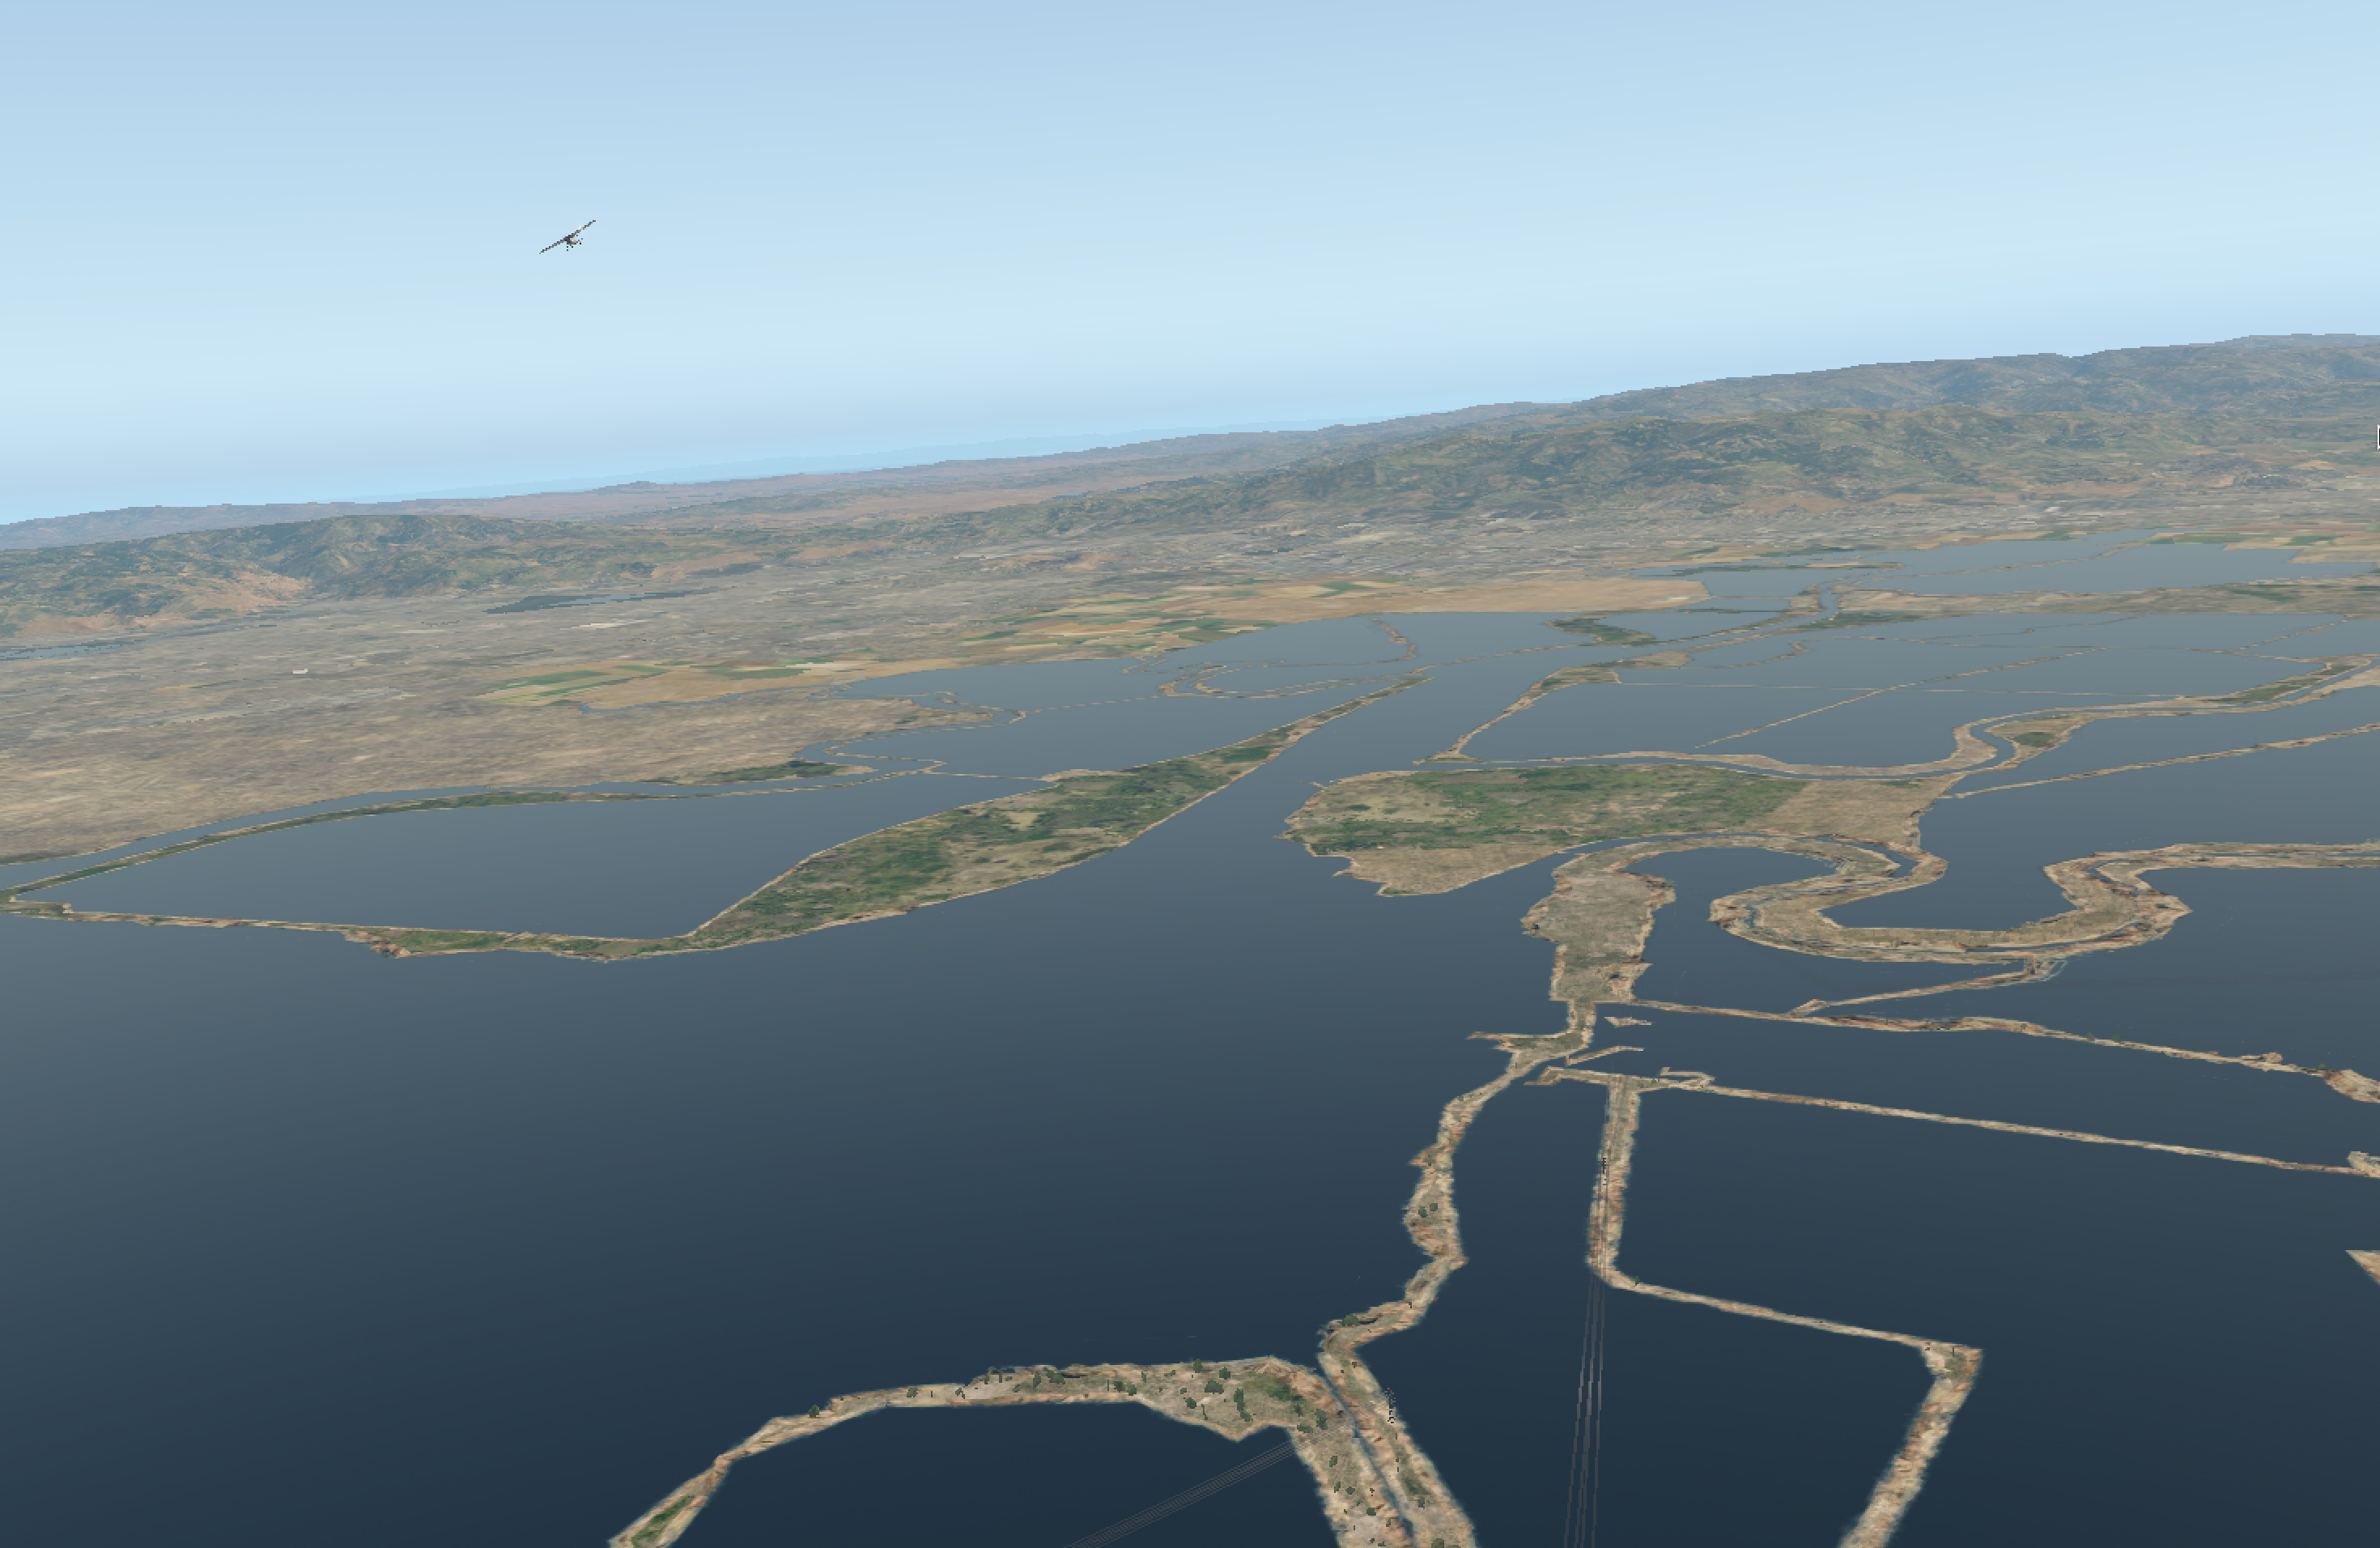aircraft: (548, 233, 592, 248)
